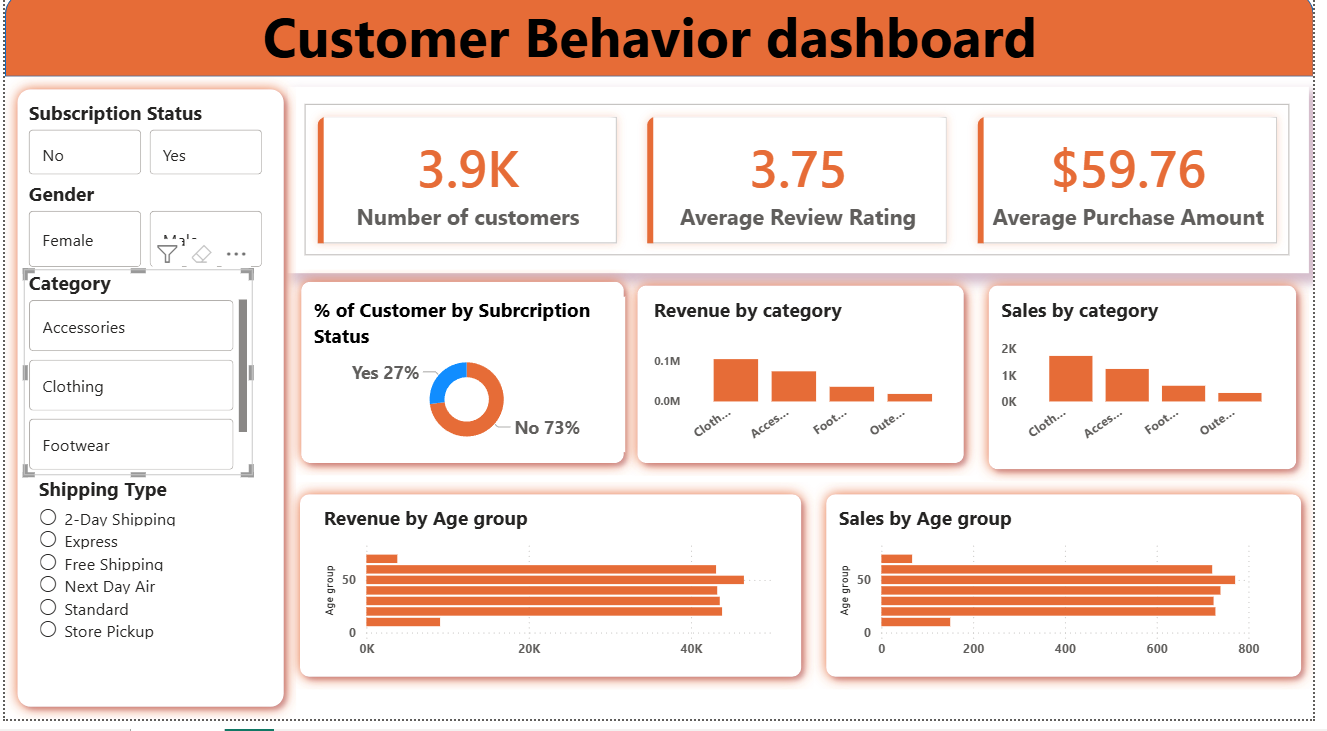

What the dashboard file says about the page in this screenshot:
{"tool":"powerbi","page":{"name":"Page 1","canvas":[1280,720],"ordinal":0},"visuals":[{"type":"cardVisual","fields":{"Data":["public customer.Number of customers","public customer.Average Review Rating","public customer.Average Purchase Amount"]},"box":[276.4,101.5,999.1,182.2],"z":0},{"type":"shape","box":[0,9.8,1280.3,81.9],"z":1000},{"type":"textbox","box":[0,9.8,1232.6,81.9],"z":2000},{"type":"shape","box":[950.1,283.7,325.3,204.2],"z":3000},{"type":"shape","box":[606.5,283.7,343.6,198.1],"z":4000},{"type":"shape","box":[277.6,280,339.9,201.8],"z":5000},{"type":"donutChart","title":"% of Customer  by Subrcription Status","fields":{"Category":["public customer.Subscription Status"],"Y":["CountNonNull(public customer.Customer ID)"]},"box":[468.3,509.9,297.1,160.2],"z":6000},{"type":"clusteredColumnChart","title":"Revenue by category","fields":{"Category":["public customer.Category"],"Y":["Sum(public customer.Purchase Amount (USD))"]},"box":[629.8,306.9,306.9,151.6],"z":7000},{"type":"clusteredColumnChart","title":"Sales by category","fields":{"Category":["public customer.Category"],"Y":["CountNonNull(public customer.Customer ID)"]},"box":[969.7,306.9,288.6,151.6],"z":8000},{"type":"shape","box":[276.4,487.9,514.8,203],"z":12000},{"type":"clusteredBarChart","title":"Revenue by Age group","fields":{"Y":["Sum(public customer.Purchase Amount (USD))"],"Category":["public customer.Age group"]},"box":[306.9,509.9,459.8,160.2],"z":13000},{"type":"shape","box":[791.2,487.9,489.1,203],"z":15000},{"type":"shape","box":[0,91.7,284.9,628.5],"z":16000},{"type":"clusteredBarChart","title":"Sales by Age group","fields":{"Category":["public customer.Age group"],"Y":["CountNonNull(public customer.Customer ID)"]},"box":[810.7,509.9,421.9,160.2],"z":17000},{"type":"listSlicer","fields":{"Values":["public customer.Shipping Type"]},"box":[26.9,487.9,229.9,215.2],"z":17500},{"type":"donutChart","title":"% of Customer  by Subrcription Status","fields":{"Category":["public customer.Subscription Status"],"Y":["CountNonNull(public customer.Customer ID)"]},"box":[297.1,306.9,309.4,151.6],"z":18000},{"type":"advancedSlicerVisual","fields":{"Values":["public customer.Category"]},"box":[18.3,283.7,220.1,198.1],"z":18500},{"type":"advancedSlicerVisual","fields":{"Values":["public customer.Gender"]},"box":[18.3,193.2,238.5,90.5],"z":19001},{"type":"advancedSlicerVisual","fields":{"Values":["public customer.Subscription Status"]},"box":[18.3,113.7,238.5,79.5],"z":19502}]}

Visuals, with their boxes in screenshot pixels (x1, y1, x2, y2), scaled from the page's 1280x720 canvas onto the 1327x731 screenshot:
cardVisual - public customer.Number of customers x public customer.Average Review Rating: [287, 103, 1322, 288]
shape: [0, 10, 1326, 93]
textbox: [0, 10, 1278, 93]
shape: [985, 288, 1322, 495]
shape: [629, 288, 985, 489]
shape: [288, 284, 640, 489]
"% of Customer  by Subrcription Status" donutChart: [485, 518, 794, 680]
"Revenue by category" clusteredColumnChart: [653, 312, 971, 466]
"Sales by category" clusteredColumnChart: [1005, 312, 1305, 466]
shape: [287, 495, 820, 701]
"Revenue by Age group" clusteredBarChart: [318, 518, 795, 680]
shape: [820, 495, 1326, 701]
shape: [0, 93, 295, 730]
"Sales by Age group" clusteredBarChart: [840, 518, 1278, 680]
listSlicer - public customer.Shipping Type: [28, 495, 266, 714]
"% of Customer  by Subrcription Status" donutChart: [308, 312, 629, 466]
advancedSlicerVisual - public customer.Category: [19, 288, 247, 489]
advancedSlicerVisual - public customer.Gender: [19, 196, 266, 288]
advancedSlicerVisual - public customer.Subscription Status: [19, 115, 266, 196]
